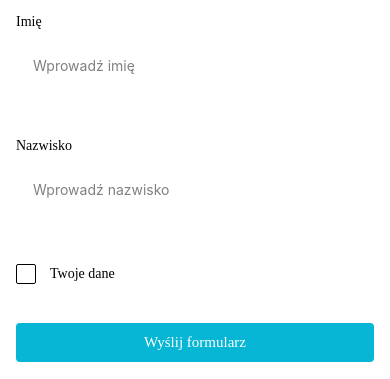
Test: PersonalDataScreen - required error
Click the button "Wyślij formularz": coordinates (195, 342) [16,323,374,362]
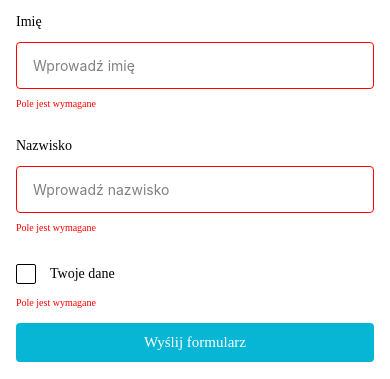
expect the text "Pole jest wymagane" is shown 3 times: met, box [16,98,96,109]; [16,222,96,233]; [16,297,96,308]
